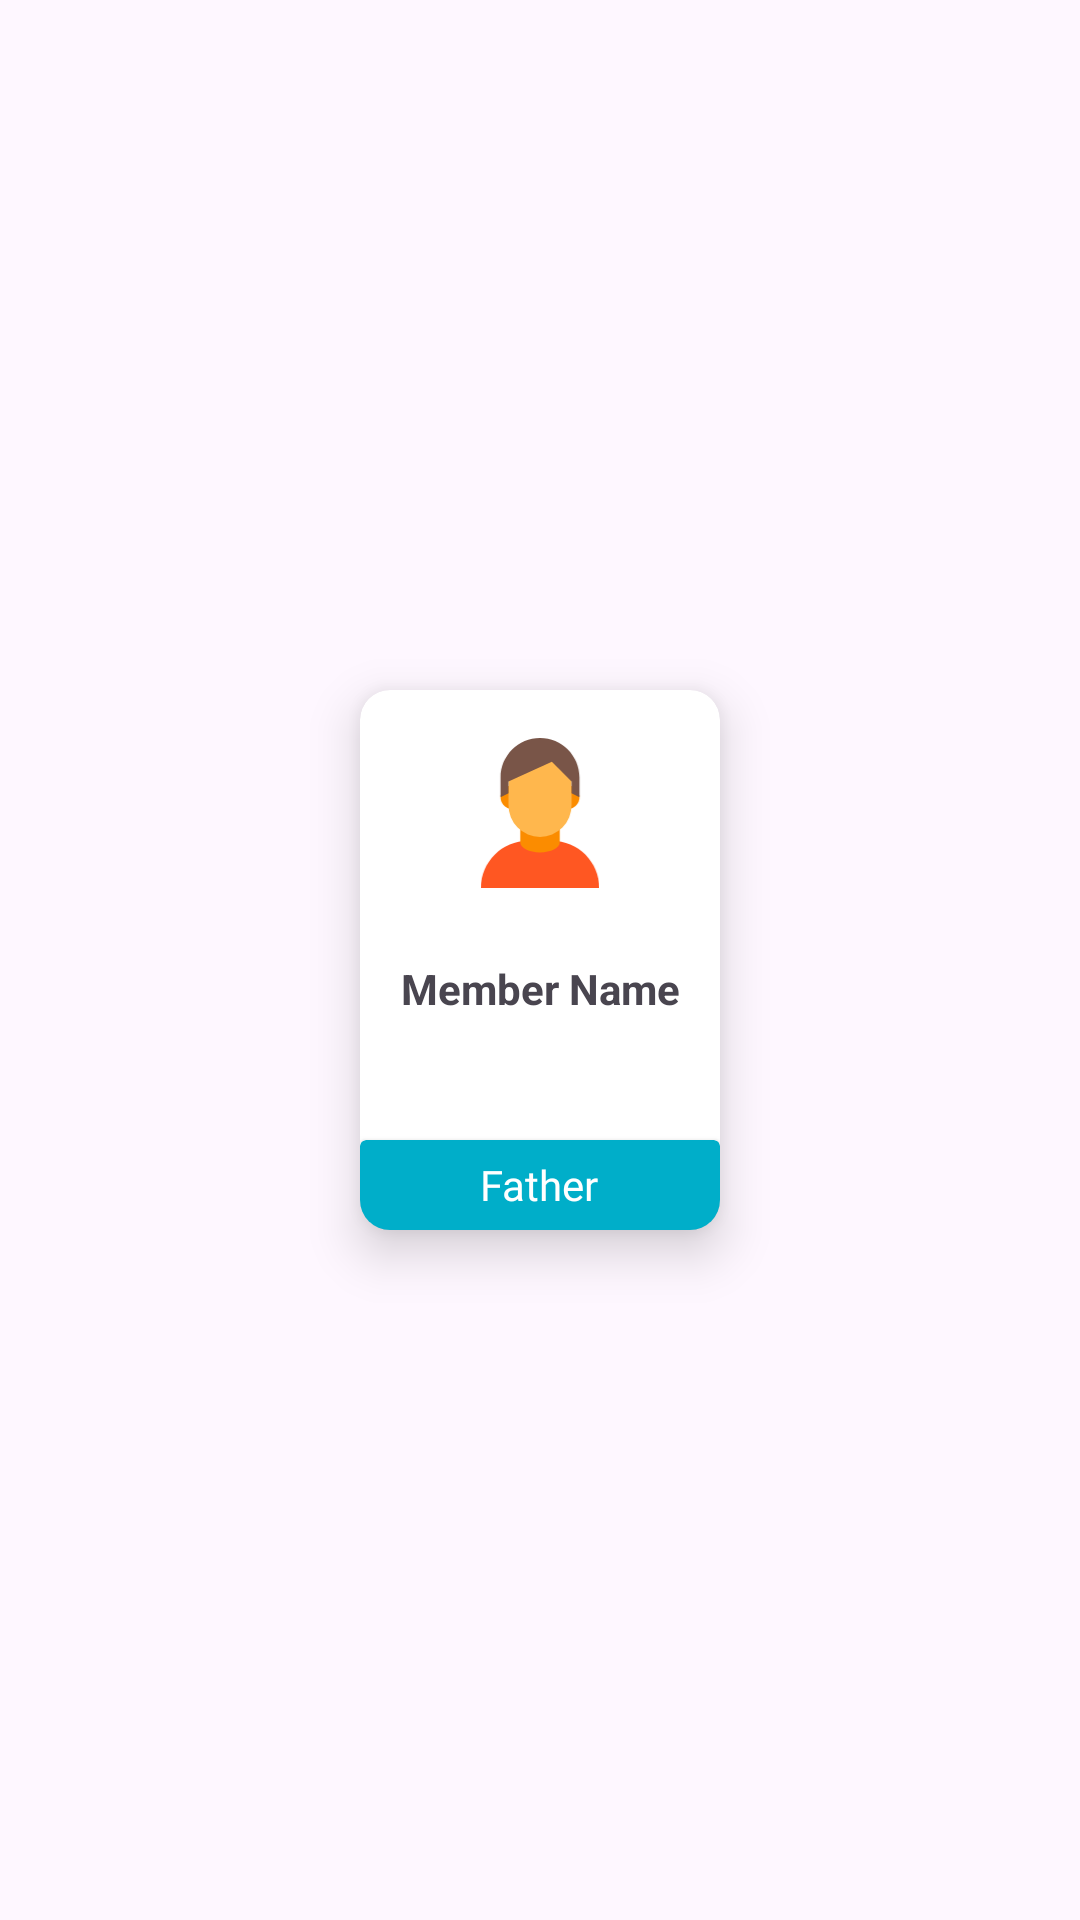

Where icons sit on this 1080x1920 app screen, as [x1,y1,x2,y2]:
self: [481,738,599,888]
